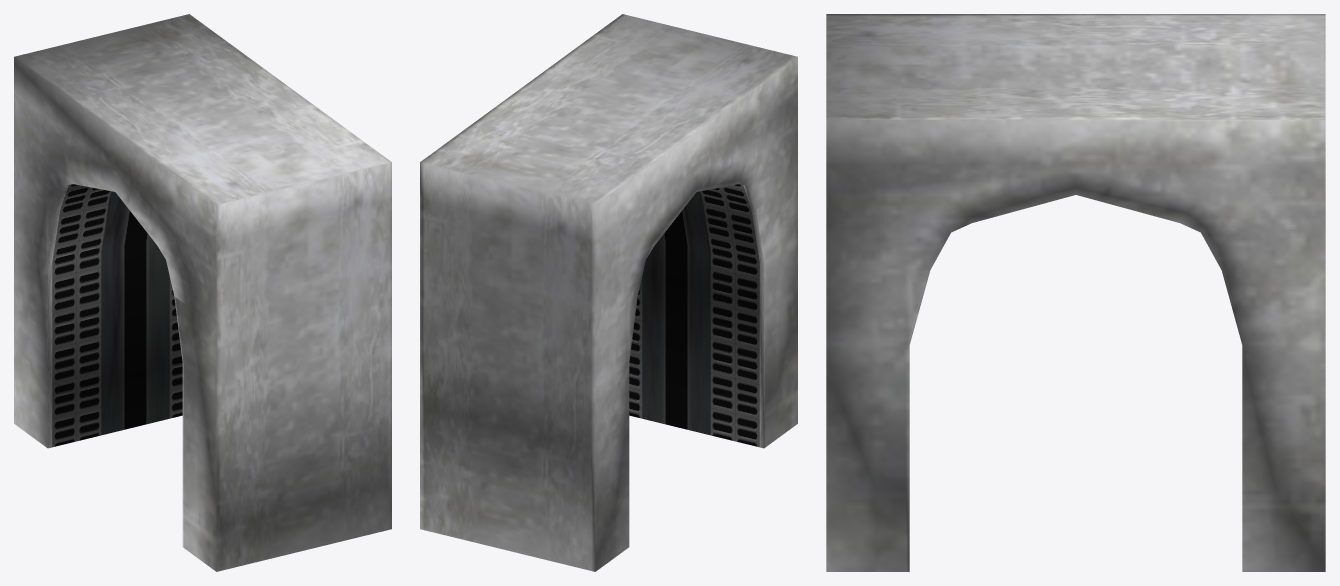
Rendered from tiles_door_arch.glb.
3 views of the same model, side by side, from view 1: azimuth 30°, elevation 25°; view 2: azimuth 150°, elevation 25°; view 3: azimuth 270°, elevation 25° (orthographic). The views are drawn at different scales.
Parts seen in each view (by area): view 1: Cube.002; view 2: Cube.002; view 3: Cube.002.
Part boxes in pixels (<box>): Cube.002: <box>14,14,391,571</box>; Cube.002: <box>420,14,797,571</box>; Cube.002: <box>826,14,1325,571</box>.
Bounding box in the file's own units: 2 × 4 × 4.
3 materials, 3 textured.
